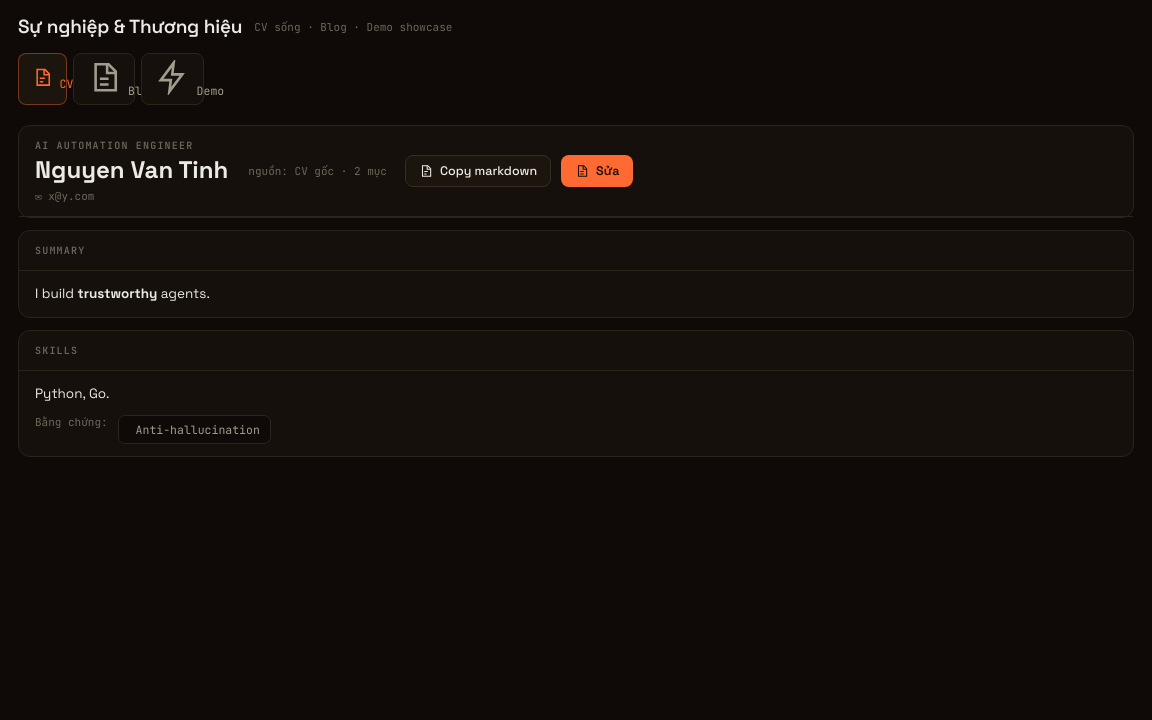
Scenario: CAR-1 Career — Blog tab › create-post failure surfaces error + keeps form open (fail-closed)
Expected: the element with test id "cv-tab" is shown, [18,124,1134,457]
Click the button with test id "tab-blog". click: [104, 79]
box: [73,53,135,104]
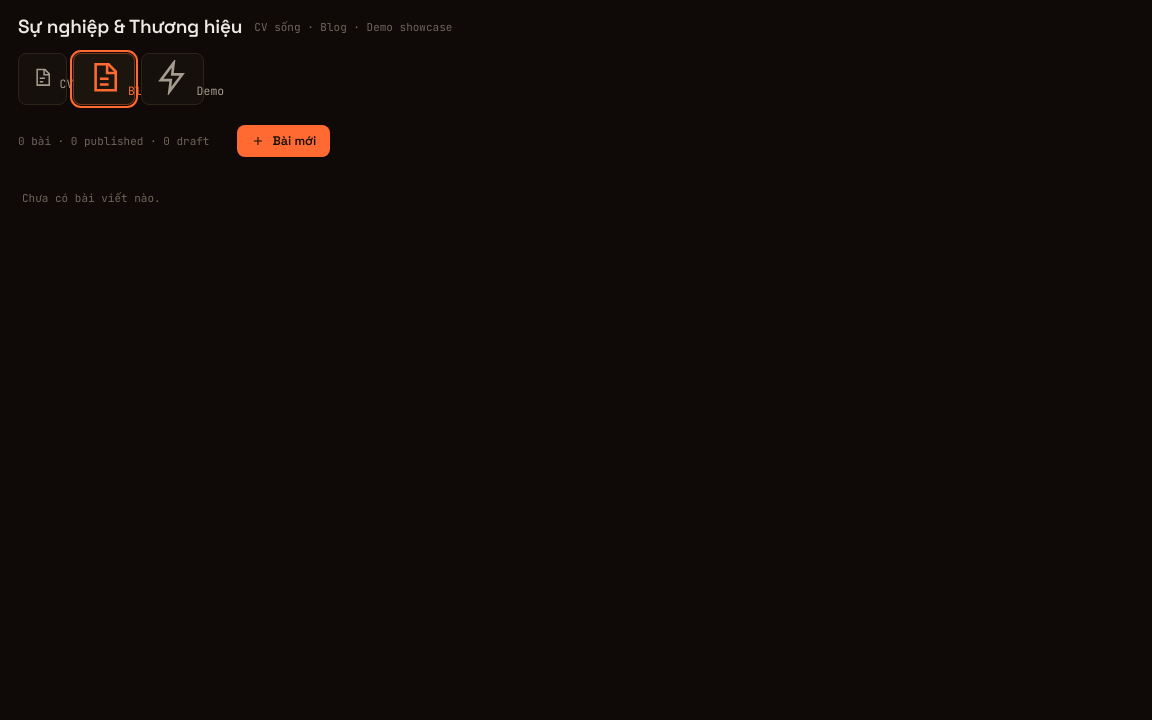
Click the button with test id "blog-new". click: [284, 140]
box: [238,124,330,156]
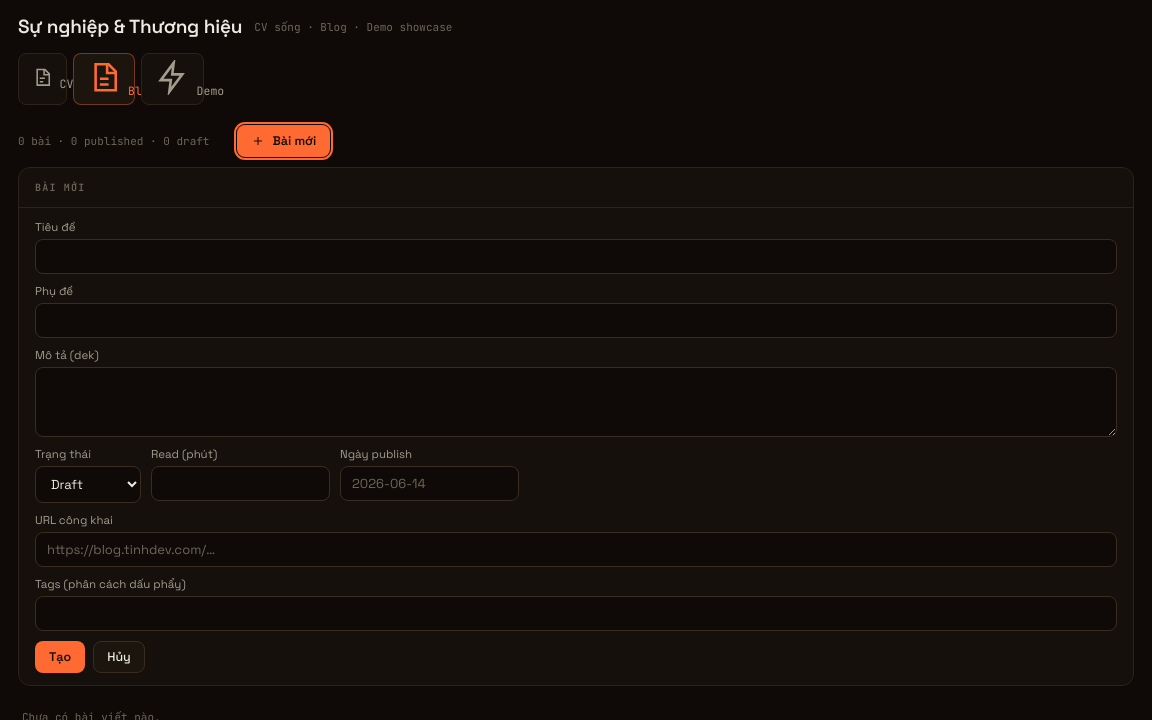
Expected: the element with test id "blog-form" is shown
Type "X" into the field with test id "blog-i-title". click: [576, 256]
box: [35,238,1117,274]
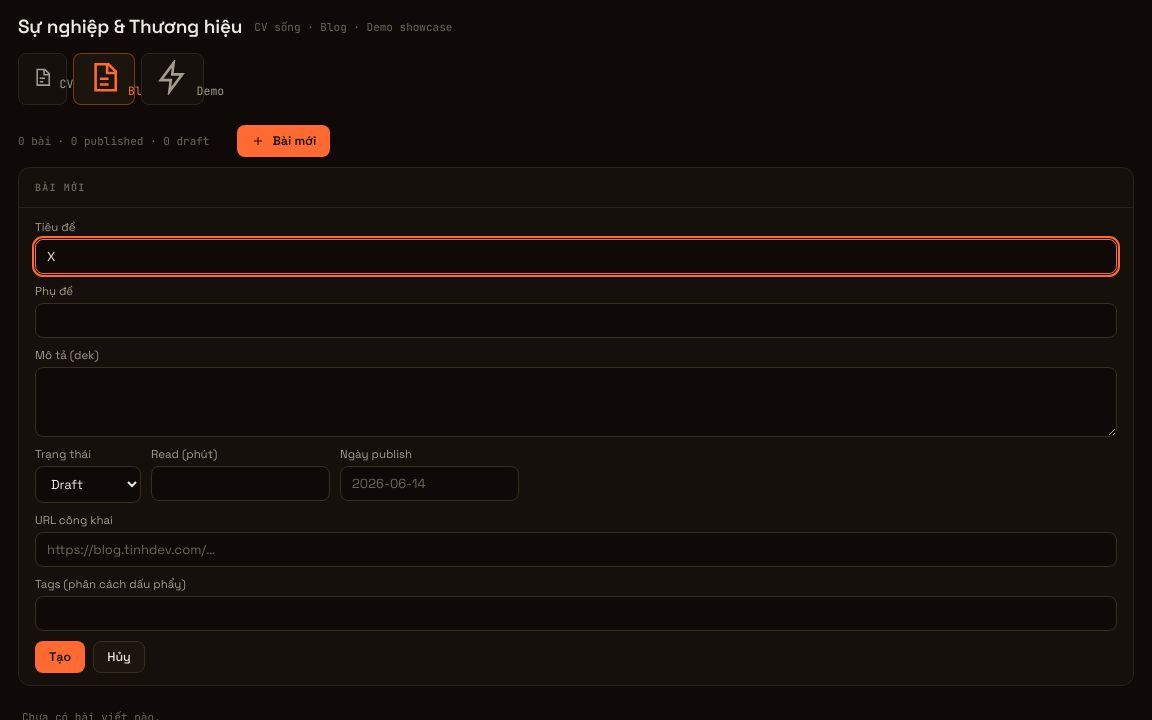
Click the button with test id "blog-submit". click: [60, 656]
box: [35,640,85,672]
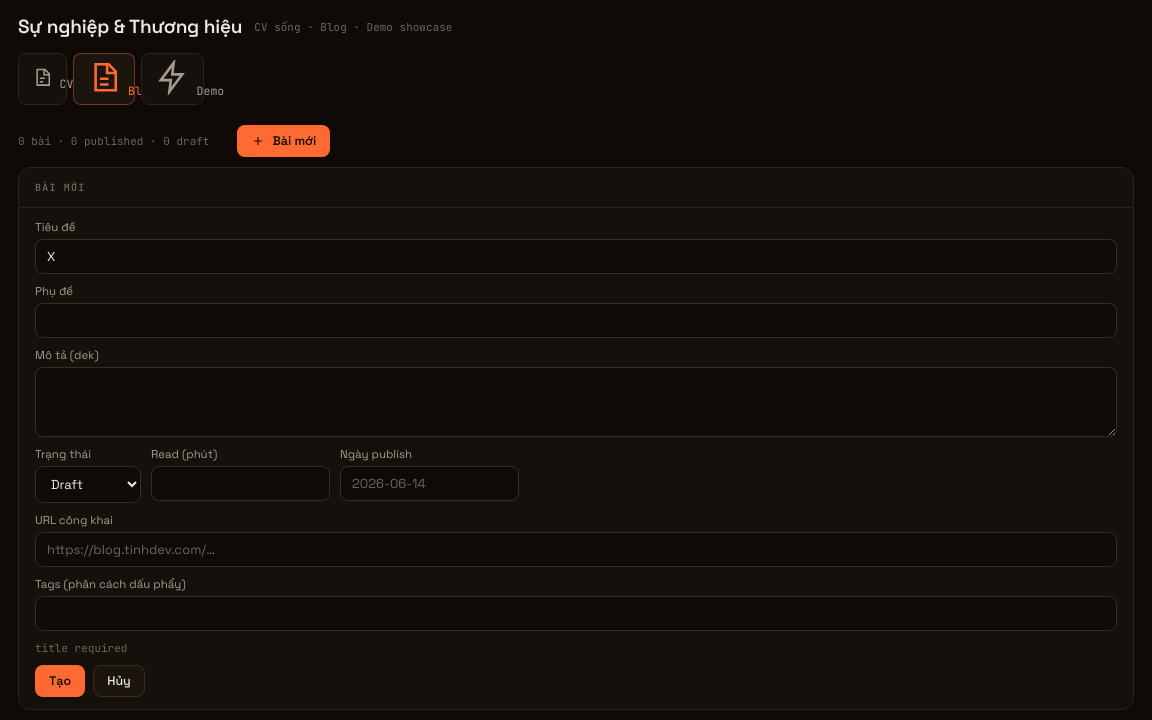
Expected: the element with test id "blog-form" is shown
Expected: the text "title required" is shown, [35,640,127,654]
